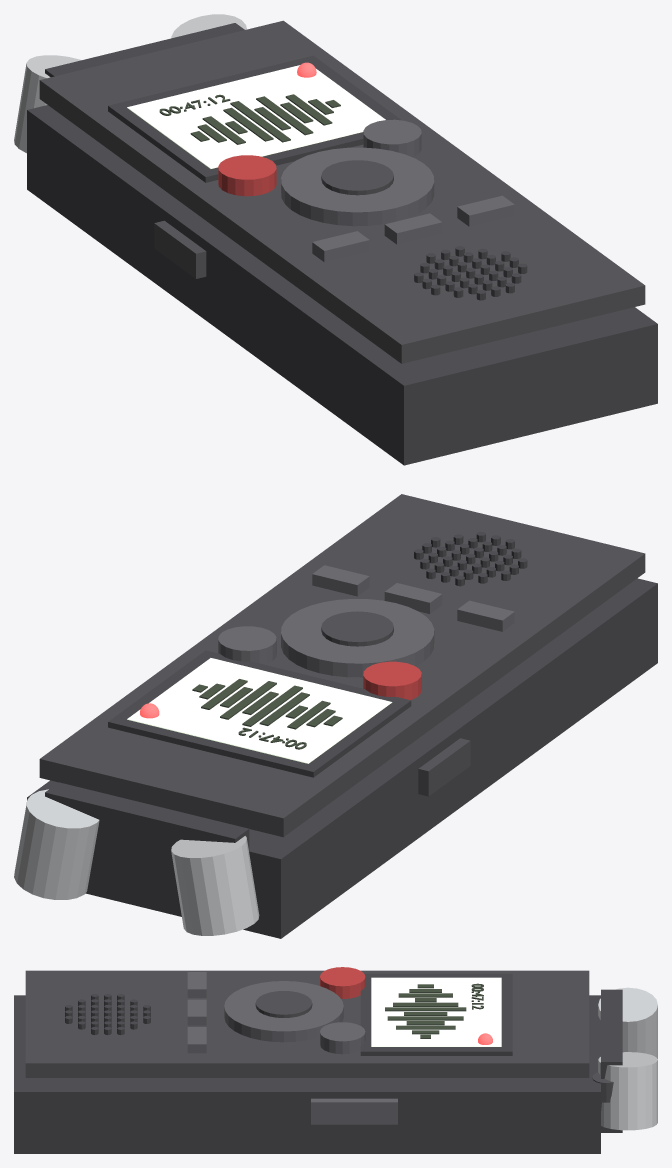
The model's file is handheld_audio_recorder.glb.
The picture shows the model from 3 angles, top to bottom: view 1: azimuth 30°, elevation 25°; view 2: azimuth 150°, elevation 25°; view 3: azimuth 270°, elevation 25°; orthographic projection. The views are drawn at different scales.
Visible parts, largest first — view 1: Recorder_RearChassis, Recorder_FrontFaceplate, Recorder_LCD_Display, Recorder_DPad_NavigationRing, Recorder_LCD_Bezel, Recorder_Button_RECORD, Recorder_DPad_CenterButton, Recorder_TopMicBridge, Recorder_StereoMic_L, Recorder_SideControl_HoldSlider, Recorder_Button_STOP, Recorder_Button_FOLDER (+3 smaller); view 2: Recorder_FrontFaceplate, Recorder_RearChassis, Recorder_LCD_Display, Recorder_TopMicBridge, Recorder_DPad_NavigationRing, Recorder_StereoMic_L, Recorder_StereoMic_R, Recorder_LCD_Bezel, Recorder_DPad_CenterButton, Recorder_Button_STOP, Recorder_Button_RECORD, Recorder_SideControl_HoldSlider (+3 smaller); view 3: Recorder_RearChassis, Recorder_FrontFaceplate, Recorder_LCD_Display, Recorder_DPad_NavigationRing, Recorder_StereoMic_R, Recorder_LCD_Bezel, Recorder_SideControl_VolumeRocker, Recorder_StereoMic_L, Recorder_TopMicBridge, Recorder_Button_STOP, Recorder_DPad_CenterButton, Recorder_Button_RECORD (+8 smaller).
Part boxes in pixels (x1=…): Recorder_RearChassis: x1=27, y1=105, x2=657, y2=465; Recorder_FrontFaceplate: x1=39, y1=20, x2=645, y2=363; Recorder_LCD_Display: x1=127, y1=65, x2=385, y2=168; Recorder_DPad_NavigationRing: x1=281, y1=147, x2=434, y2=226; Recorder_LCD_Bezel: x1=108, y1=55, x2=401, y2=182; Recorder_Button_RECORD: x1=218, y1=155, x2=276, y2=196; Recorder_DPad_CenterButton: x1=321, y1=160, x2=393, y2=195; Recorder_TopMicBridge: x1=45, y1=23, x2=244, y2=77; Recorder_StereoMic_L: x1=14, y1=55, x2=81, y2=153; Recorder_SideControl_HoldSlider: x1=154, y1=220, x2=206, y2=278; Recorder_Button_STOP: x1=363, y1=119, x2=421, y2=157; Recorder_Button_FOLDER: x1=384, y1=213, x2=442, y2=244; Recorder_FrontFaceplate: x1=39, y1=494, x2=645, y2=837; Recorder_RearChassis: x1=27, y1=578, x2=657, y2=938; Recorder_LCD_Display: x1=127, y1=658, x2=392, y2=763; Recorder_TopMicBridge: x1=45, y1=782, x2=249, y2=916; Recorder_DPad_NavigationRing: x1=281, y1=599, x2=434, y2=677; Recorder_StereoMic_L: x1=171, y1=836, x2=259, y2=935; Recorder_StereoMic_R: x1=14, y1=789, x2=99, y2=899; Recorder_LCD_Bezel: x1=108, y1=650, x2=411, y2=777; Recorder_DPad_CenterButton: x1=321, y1=611, x2=393, y2=646; Recorder_Button_STOP: x1=218, y1=626, x2=276, y2=664; Recorder_Button_RECORD: x1=363, y1=661, x2=421, y2=699; Recorder_SideControl_HoldSlider: x1=418, y1=738, x2=470, y2=796; Recorder_RearChassis: x1=14, y1=995, x2=600, y2=1153; Recorder_FrontFaceplate: x1=25, y1=970, x2=589, y2=1077; Recorder_LCD_Display: x1=371, y1=977, x2=501, y2=1046; Recorder_DPad_NavigationRing: x1=224, y1=981, x2=343, y2=1042; Recorder_StereoMic_R: x1=598, y1=1052, x2=657, y2=1130; Recorder_LCD_Bezel: x1=360, y1=973, x2=512, y2=1055; Recorder_SideControl_VolumeRocker: x1=311, y1=1098, x2=397, y2=1124; Recorder_StereoMic_L: x1=598, y1=987, x2=657, y2=1058; Recorder_TopMicBridge: x1=601, y1=989, x2=622, y2=1132; Recorder_Button_STOP: x1=320, y1=1022, x2=365, y2=1054; Recorder_DPad_CenterButton: x1=255, y1=991, x2=312, y2=1017; Recorder_Button_RECORD: x1=320, y1=967, x2=365, y2=998.
Bounding box in the file's own units: 0.0454 × 0.0209 × 0.1185.
